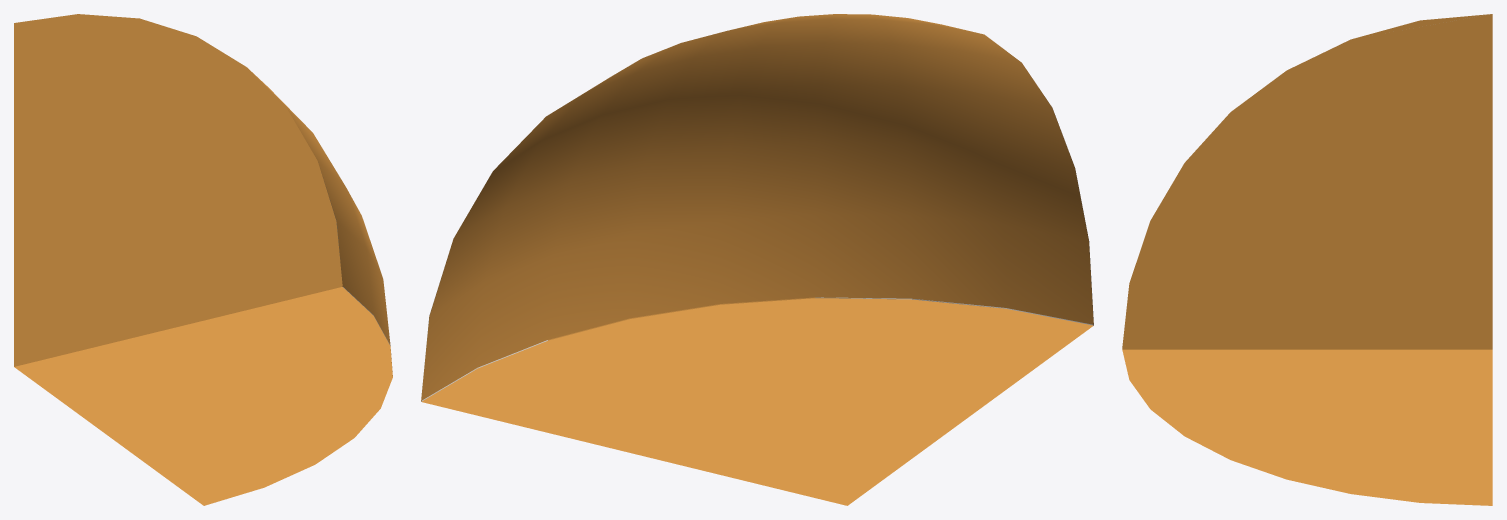
The model's file is r4c1_border_orange.gltf.
The picture shows the model from 3 angles, left to right: view 1: azimuth 30°, elevation 25°; view 2: azimuth 150°, elevation 25°; view 3: azimuth 270°, elevation 25°; orthographic projection. The views are drawn at different scales.
Parts seen in each view (by area): view 1: r4c1_border_orange; view 2: r4c1_border_orange; view 3: r4c1_border_orange.
Part boxes in pixels (x1=…): r4c1_border_orange: x1=14, y1=14, x2=392, y2=505; r4c1_border_orange: x1=421, y1=14, x2=1093, y2=505; r4c1_border_orange: x1=1122, y1=14, x2=1492, y2=505.
Size of the model in its own units: 2.1 by 2.1 by 2.1.
Materials: 1 (1 with a texture image).
